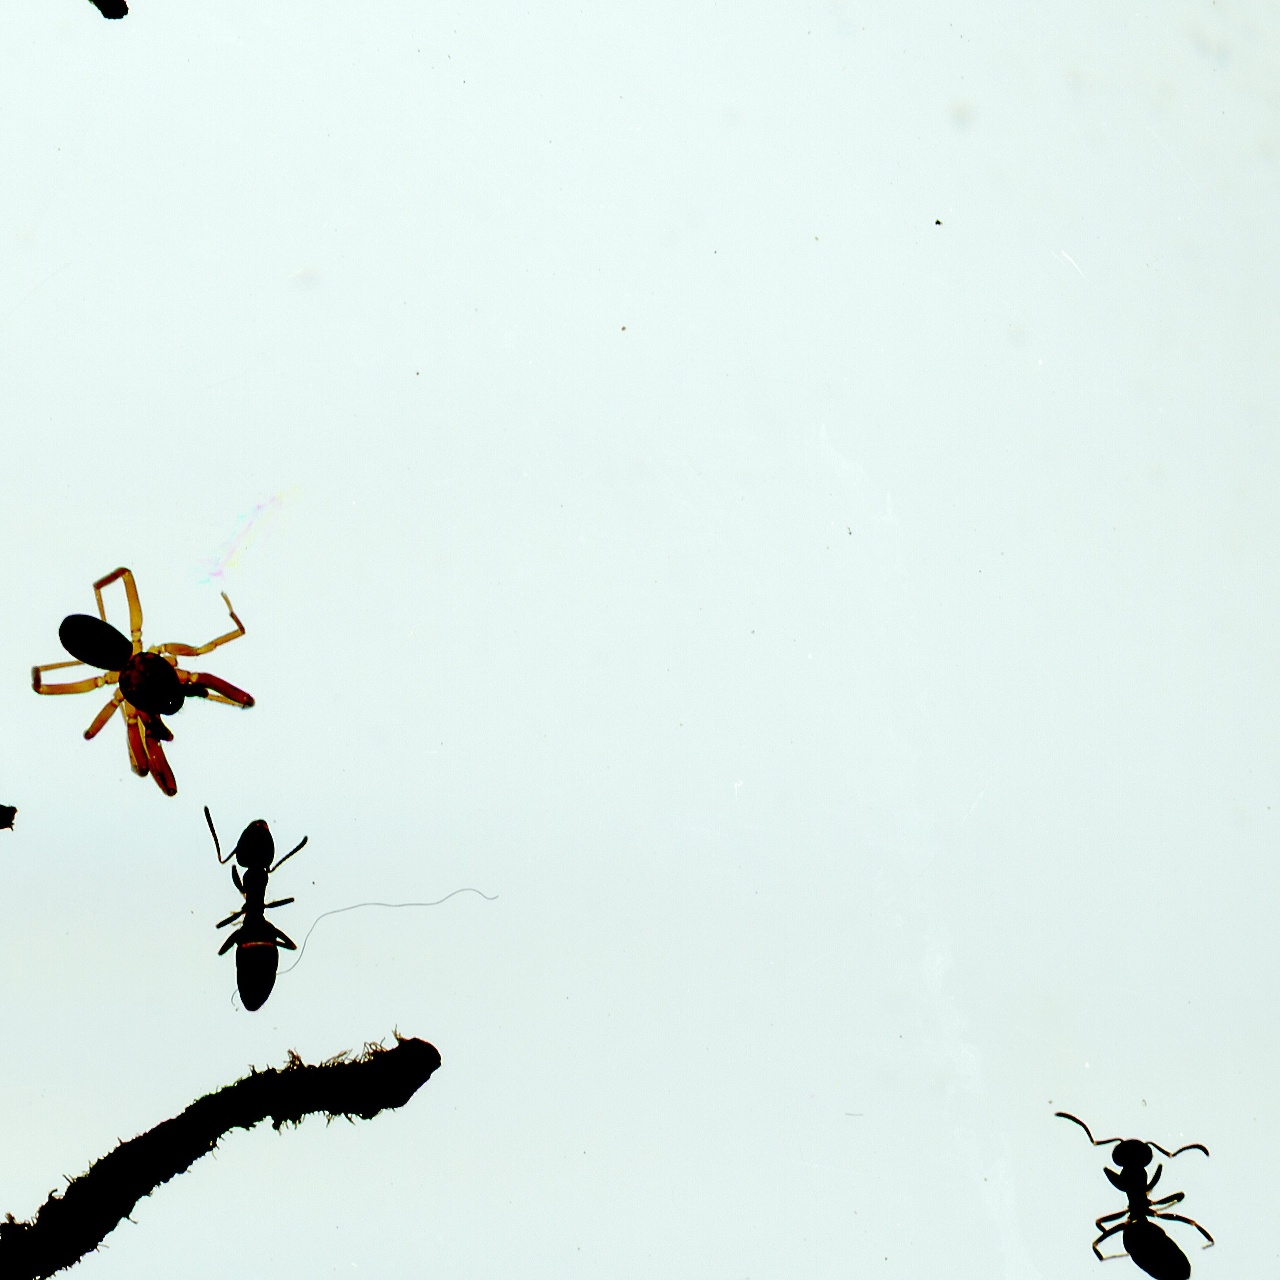arthropod: (30, 548, 259, 801), (1002, 1036, 1235, 1280), (196, 803, 312, 1019), (317, 1255, 571, 1280)
